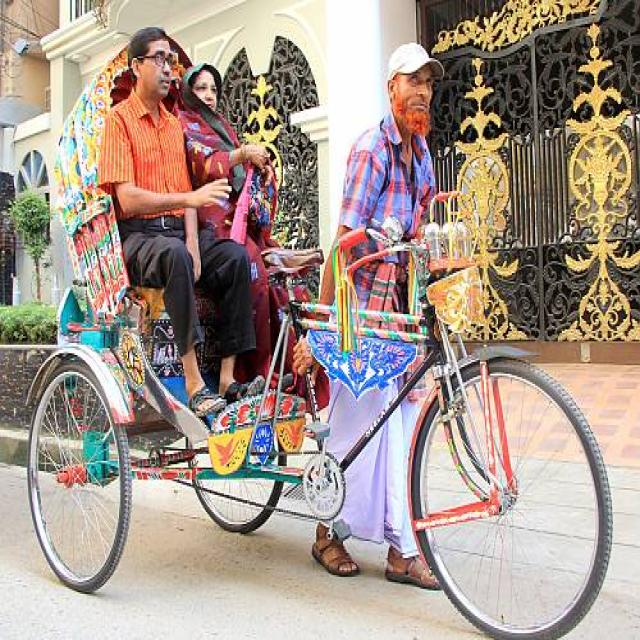Rickshaw: (17, 16, 625, 640)
